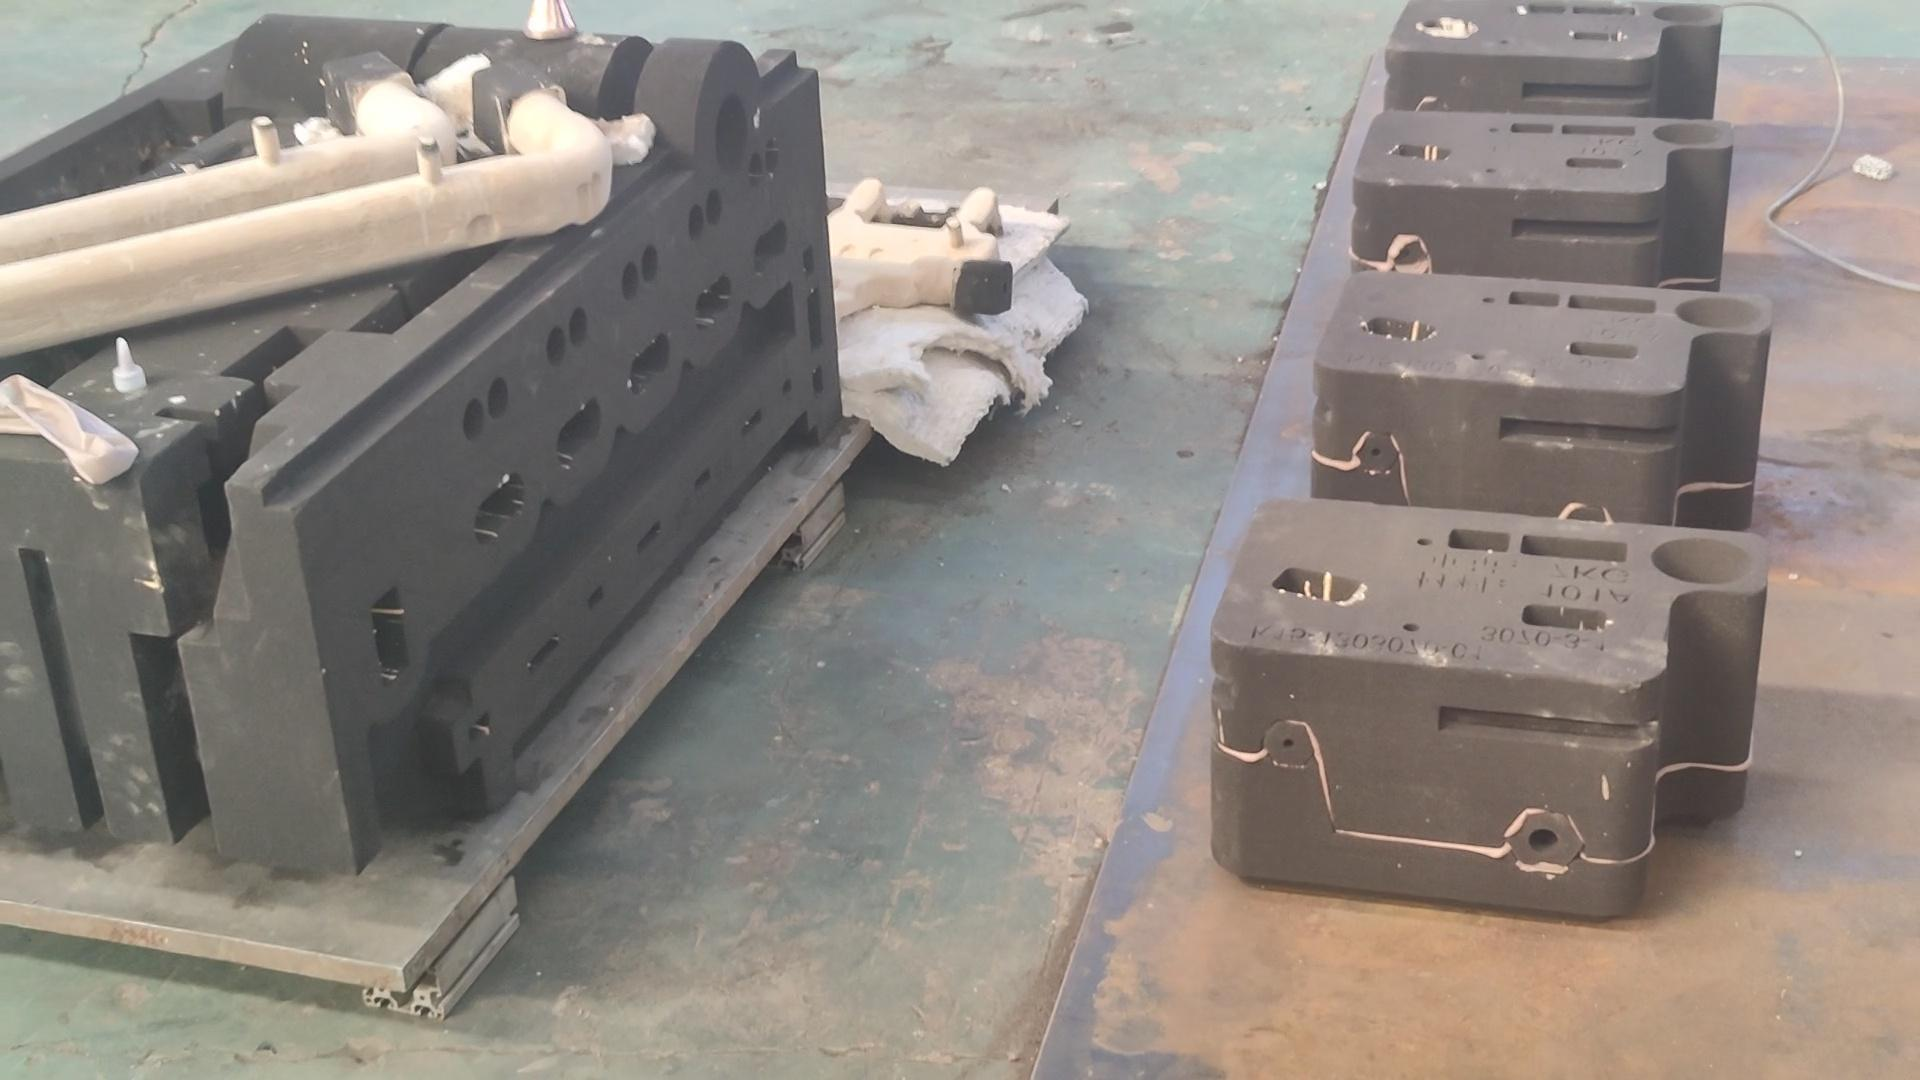pouring hole: (1651, 535, 1755, 585), (1673, 293, 1764, 330), (715, 92, 752, 178), (1652, 120, 1729, 146), (1654, 1, 1720, 24)
